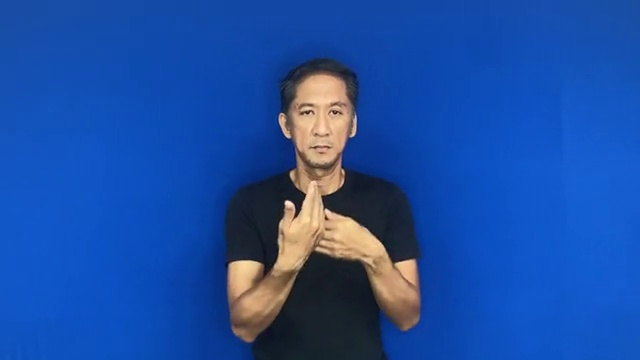bread: (268, 177, 392, 284)
